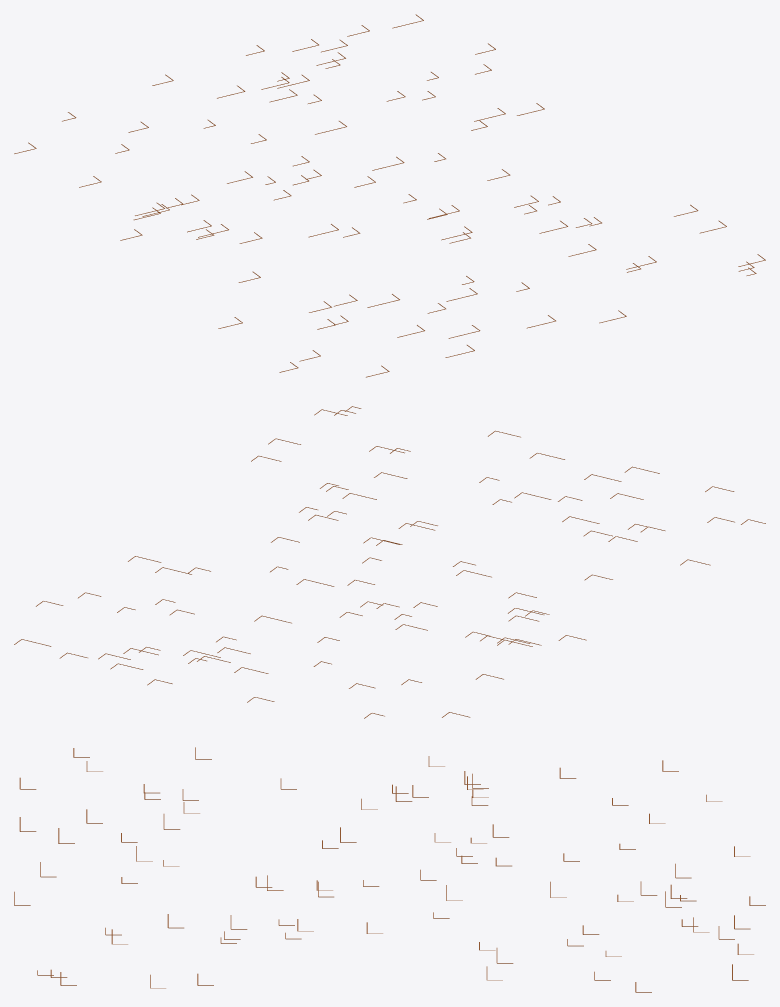
3 views of the same model, one above another, from view 1: azimuth 30°, elevation 25°; view 2: azimuth 150°, elevation 25°; view 3: azimuth 270°, elevation 25° (orthographic). The views are drawn at different scales.
Parts seen in each view (by area): view 1: LAYER_01__Copper; view 2: LAYER_01__Copper; view 3: LAYER_01__Copper.
Boxes of the visible parts, left/top/right/bottom form: LAYER_01__Copper: left=14, top=14, right=765, bottom=377; LAYER_01__Copper: left=14, top=406, right=765, bottom=718; LAYER_01__Copper: left=14, top=747, right=765, bottom=992.
Bounding box in the file's own units: 215 × 0.09 × 278.
